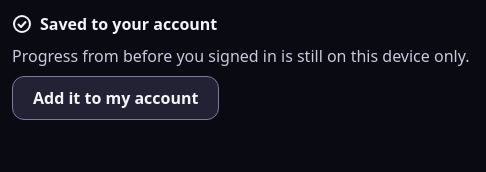
it: SyncStatusLine (Settings) › offers to add progress that was set aside, and does so
The width and height of the screenshot is (486, 172).
Expected: the text "Progress from before you signed in is still on this device only" is shown, [12, 45, 470, 67]
Click the button "Add it to my account" at (116, 98), box [12, 76, 219, 120]
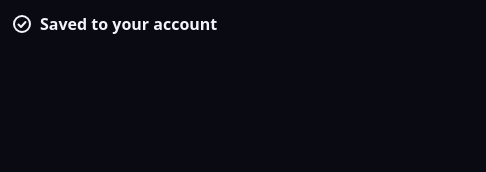
Now the button "Add it to my account" is gone
